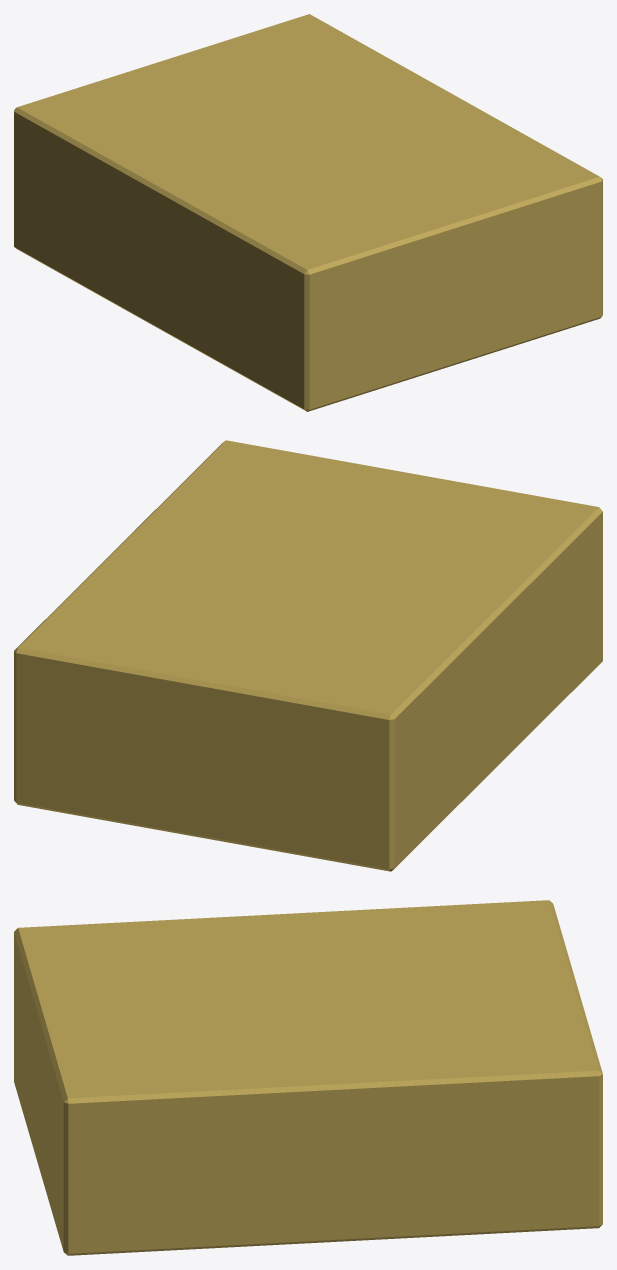
Rendered from Fridgerer_Nuggets_Box.glb.
3 views of the same model, one above another, from view 1: azimuth 30°, elevation 25°; view 2: azimuth 150°, elevation 25°; view 3: azimuth 270°, elevation 25° (orthographic). The views are drawn at different scales.
Visible parts, largest first — view 1: Nuggets; view 2: Nuggets; view 3: Nuggets.
Part boxes in pixels (left/top/right/bottom): Nuggets: left=14, top=14, right=602, bottom=411; Nuggets: left=14, top=440, right=602, bottom=871; Nuggets: left=14, top=900, right=602, bottom=1255.
Size of the model in its own units: 0.2301 by 0.0838 by 0.284.
